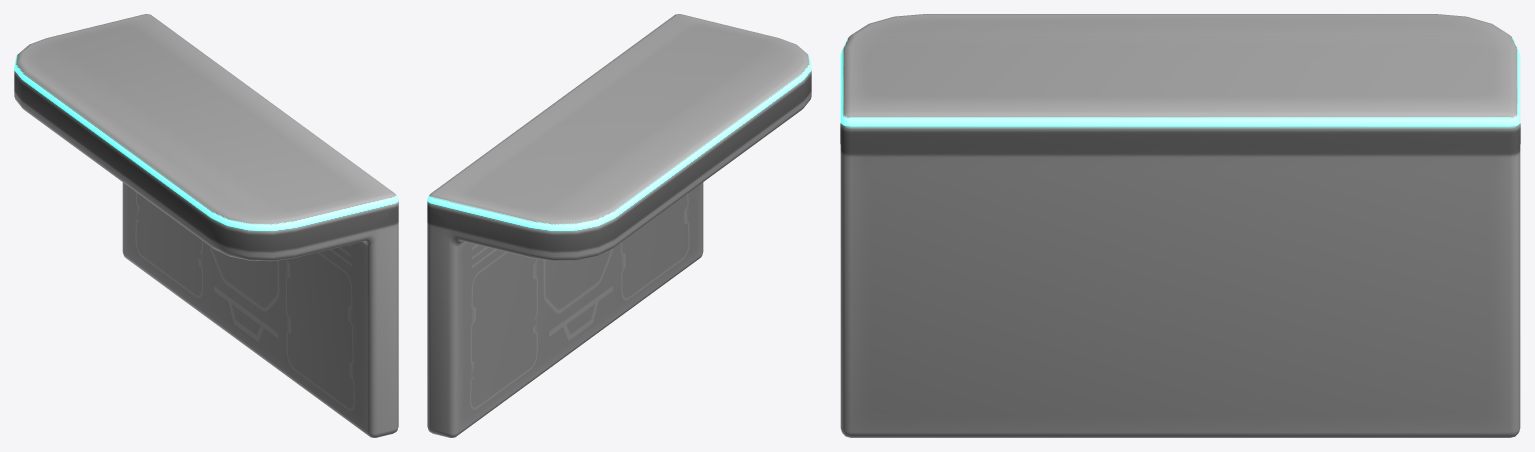
The model's file is scifi_desk.glb.
3 renders of one model, left to right at view 1: azimuth 30°, elevation 25°; view 2: azimuth 150°, elevation 25°; view 3: azimuth 270°, elevation 25°, orthographic. The views are drawn at different scales.
Parts seen in each view (by area): view 1: SM_desk; view 2: SM_desk; view 3: SM_desk.
Part boxes in pixels (x1,y1,x2,y2): SM_desk: (14,14,398,437); SM_desk: (427,14,811,437); SM_desk: (840,14,1520,437).
Size of the model in its own units: 0.6359 by 0.9168 by 1.74.
1 material, 1 textured.
